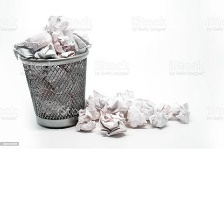book: (80, 85, 172, 130), (94, 110, 132, 140), (37, 11, 71, 38), (22, 26, 52, 51), (69, 28, 94, 57), (71, 105, 97, 132), (167, 99, 193, 125), (10, 36, 37, 61), (52, 33, 78, 58), (148, 109, 172, 132)
